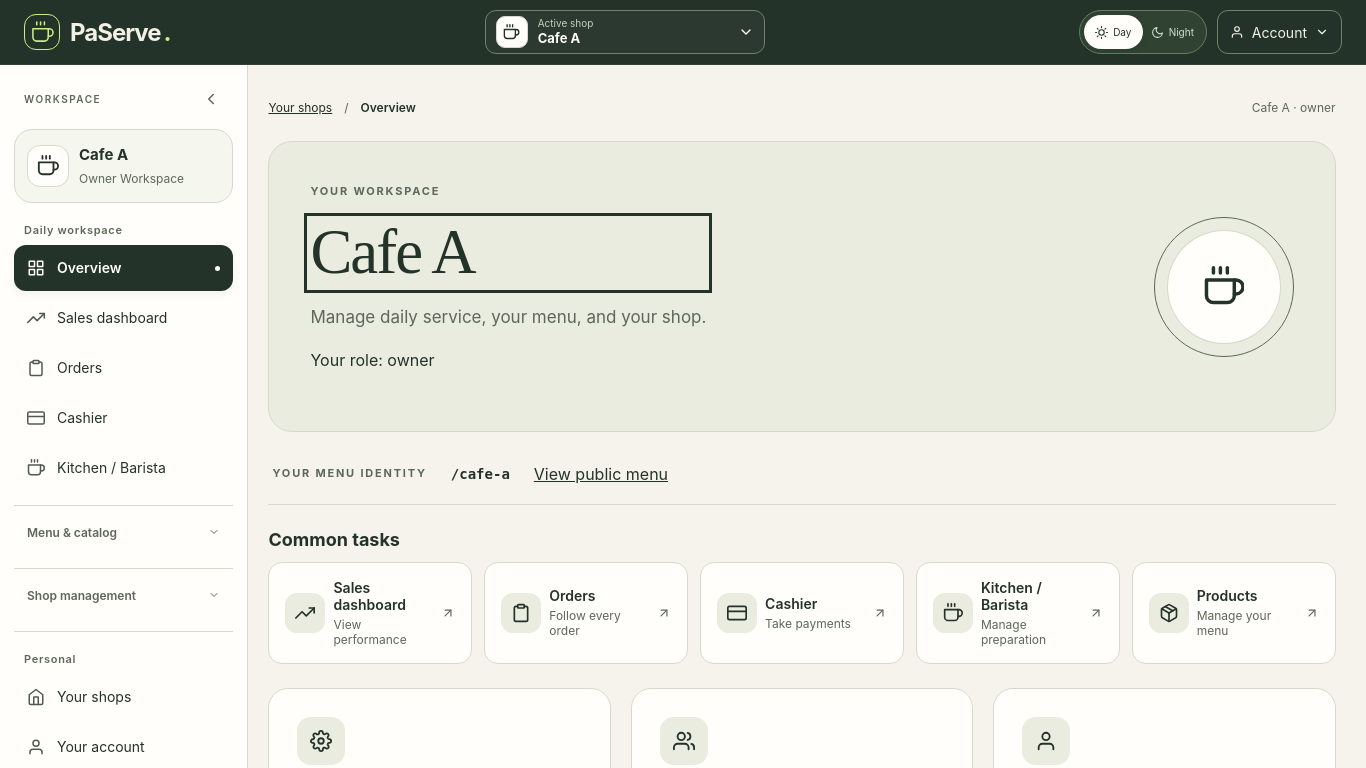
it: still collapses when browser preference storage is blocked
Check: the heading "Cafe A" is shown, box top-left (310, 217), bottom-right (475, 287)
Step 1. Click the button named "Collapse sidebar" → (211, 99), box top-left (189, 77), bottom-right (233, 121)
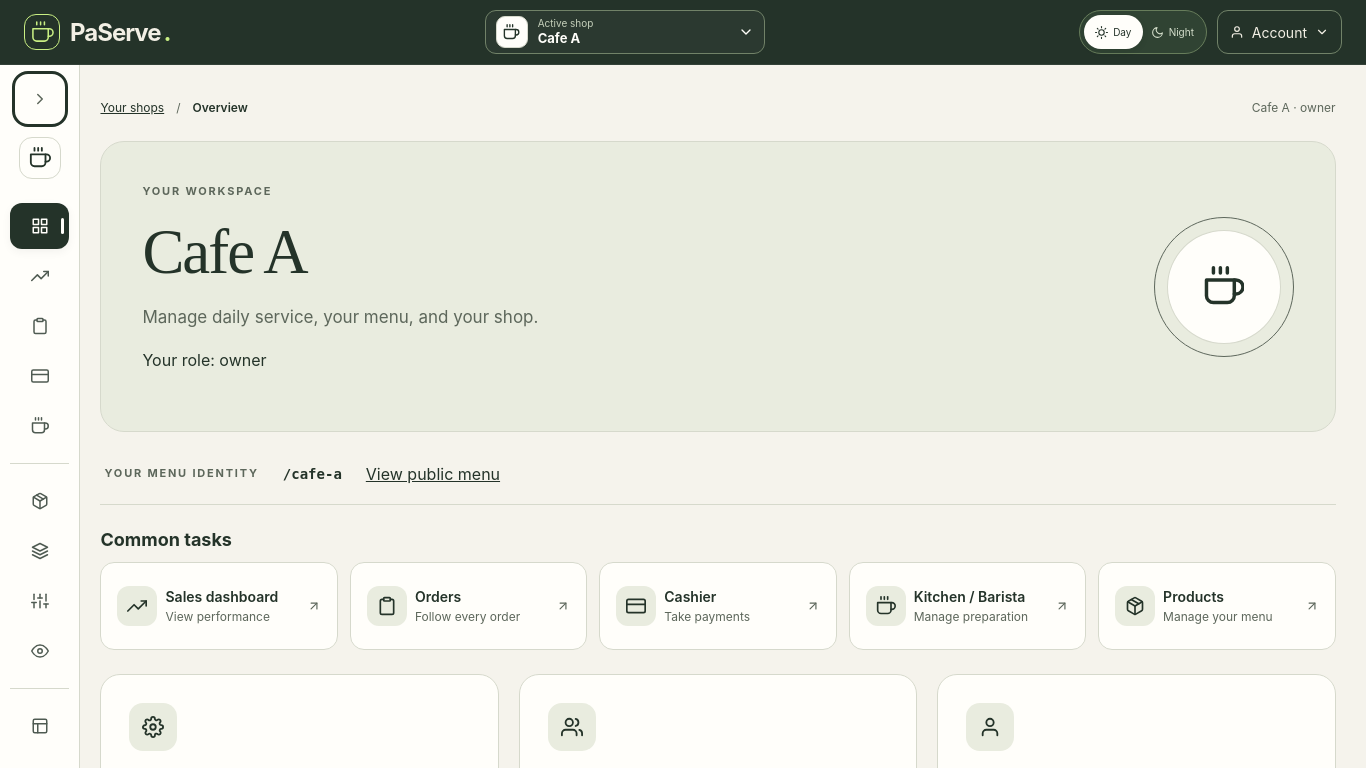
Check: the button named "Expand sidebar" is shown, box top-left (18, 77), bottom-right (62, 121)
